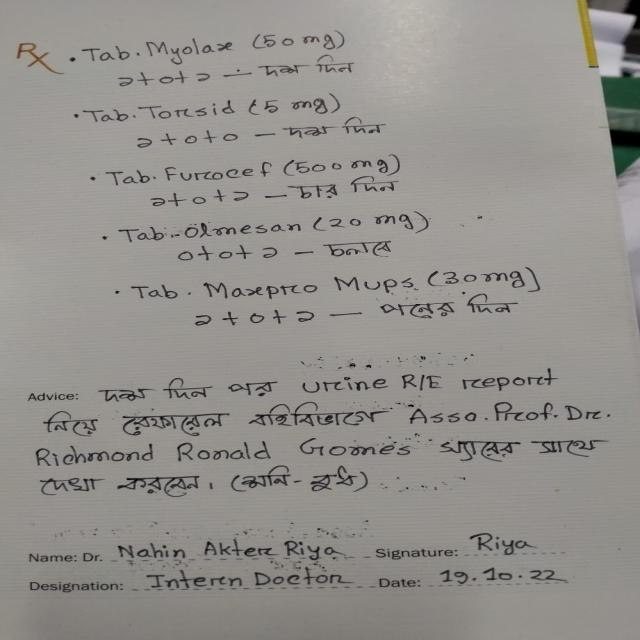Furocef: (163, 161, 279, 187)
Maxpro Mups: (193, 270, 416, 303)
Myolax: (132, 30, 246, 65)
Olmesan: (176, 215, 310, 244)
Torsid: (142, 95, 246, 126)
